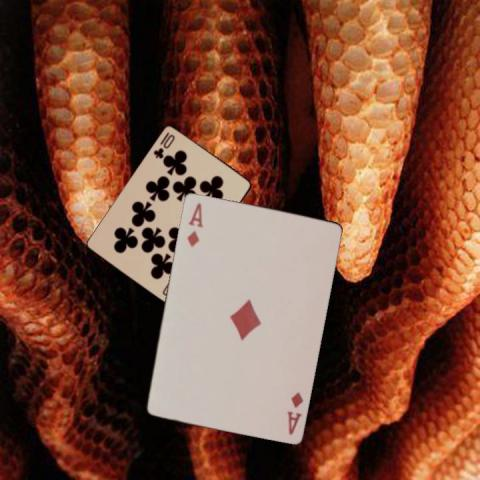10c: (151, 129, 176, 160)
Ad: (184, 199, 204, 249), (284, 389, 304, 436)
